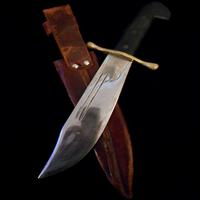knife: (34, 7, 157, 183)
